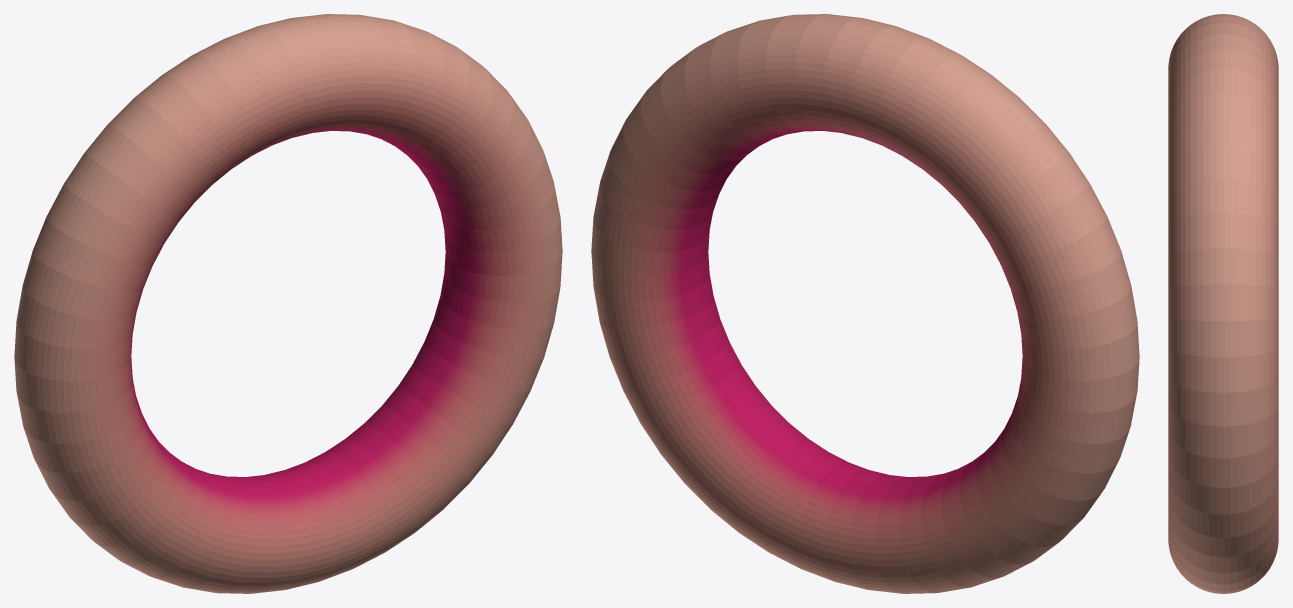
3 renders of one model, left to right at view 1: azimuth 30°, elevation 25°; view 2: azimuth 150°, elevation 25°; view 3: azimuth 270°, elevation 25°, orthographic. The views are drawn at different scales.
Parts seen in each view (by area): view 1: world; view 2: world; view 3: world.
Boxes of the visible parts, x1,y1,x2,y2 form: world: (14,14,562,593); world: (591,14,1139,593); world: (1168,14,1278,593).
Size of the model in its own units: 32.93 by 32.87 by 6.25.
